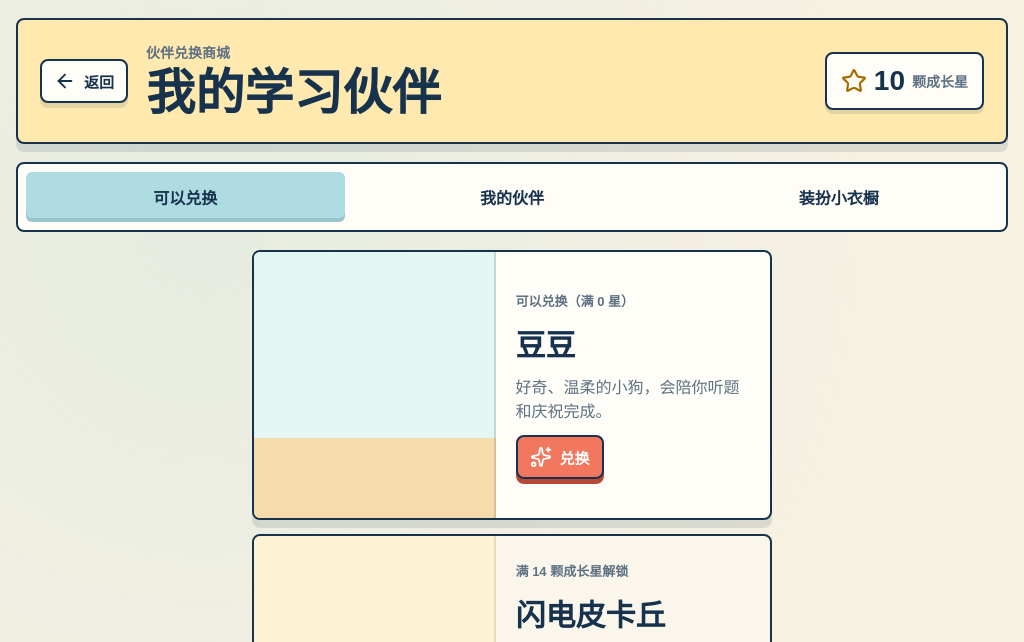
CompanionShop › confirms redemption without charging stars
The width and height of the screenshot is (1024, 642).
Later steps or results of the test are not shown.
Click the button "兑换" at point(560, 457), box [516,435,604,479]
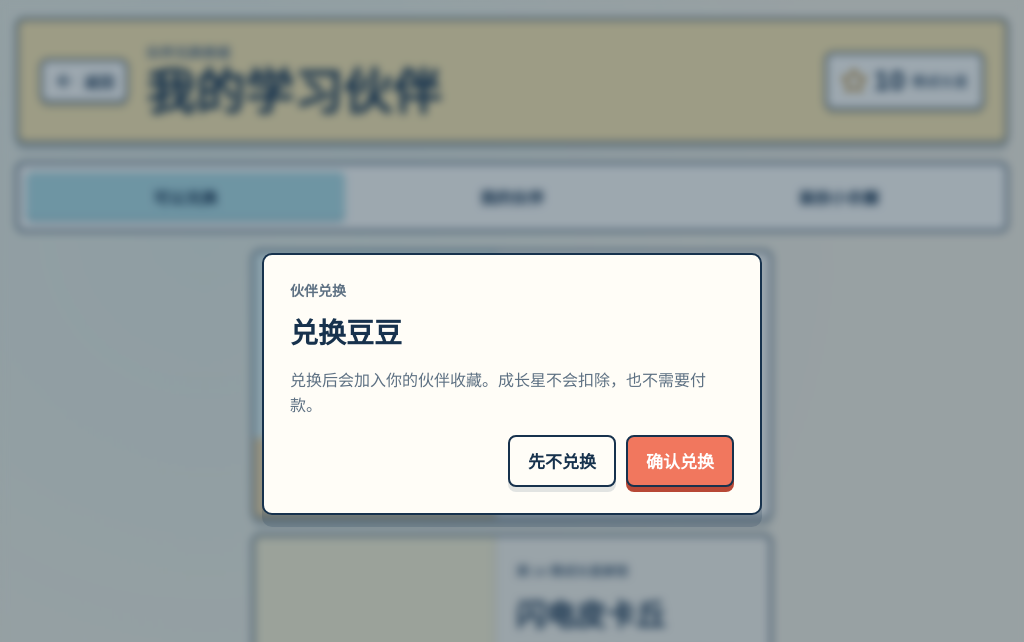
Expected: the text "兑换后会加入你的伙伴收藏。成长星不会扣除，也不需要付款。" is shown, [290,369,734,419]
